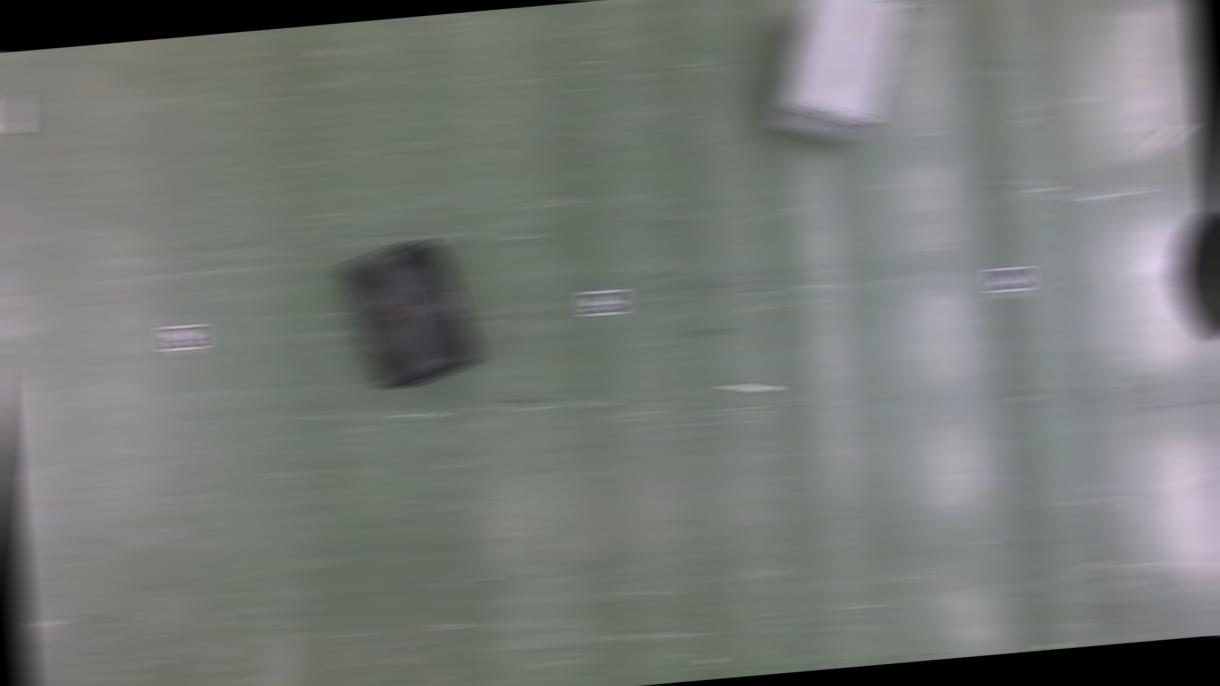probes: (1141, 124, 1191, 154), (7, 96, 28, 135), (725, 380, 773, 396)
rako: (756, 0, 914, 153), (337, 237, 482, 396)
